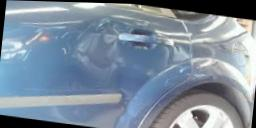Door: (73, 14, 127, 78)
